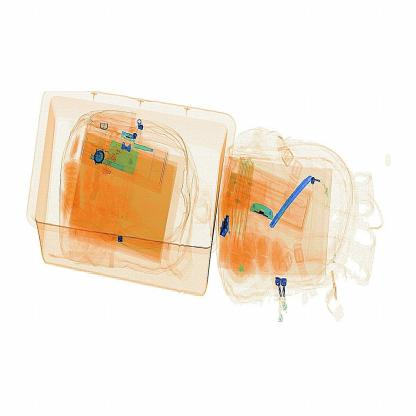pliers: (265, 163, 330, 233)
